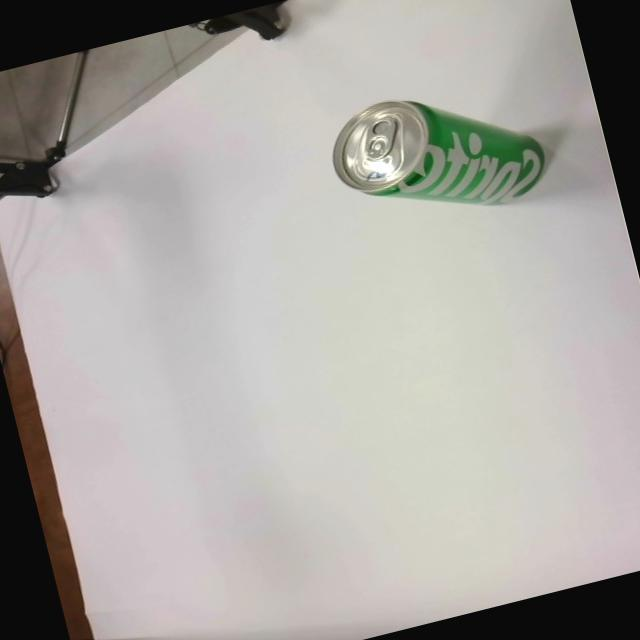debris: (320, 64, 558, 242)
